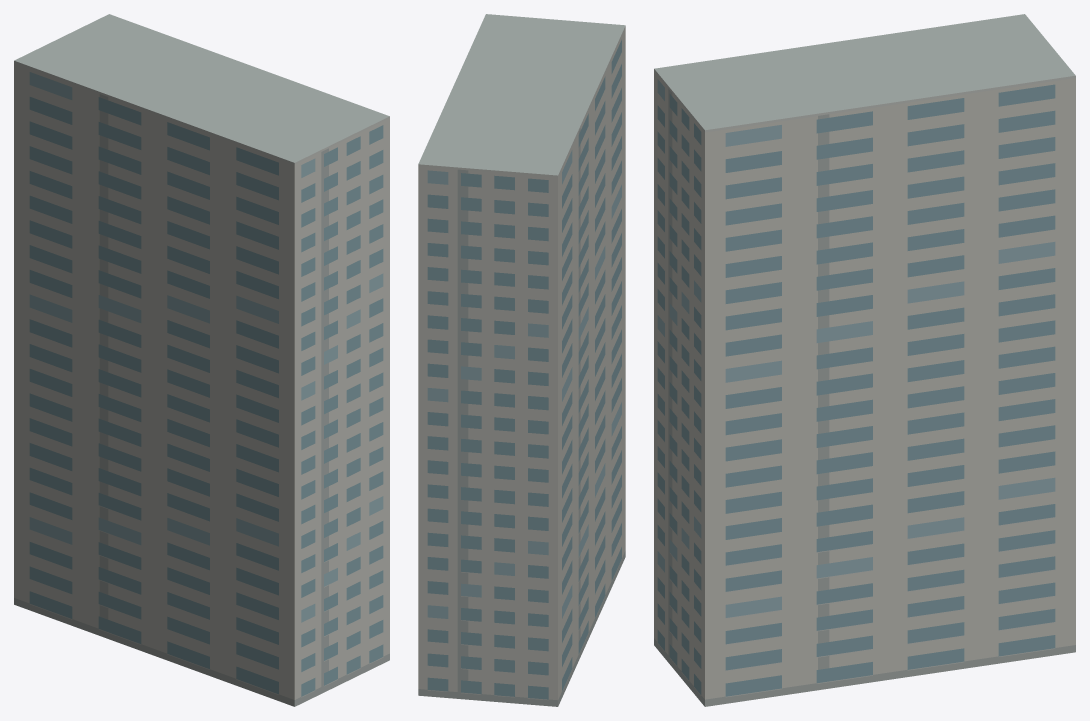
The model's file is residential-89748c37-435c-4e97-a1d1-fd2534d52f50.glb.
3 views of the same model, side by side, from view 1: azimuth 30°, elevation 25°; view 2: azimuth 150°, elevation 25°; view 3: azimuth 270°, elevation 25° (orthographic). The views are drawn at different scales.
Visible parts, largest first — view 1: residential-89748c37-435c-4e97-a1d1-fd2534d52f50.tmp; view 2: residential-89748c37-435c-4e97-a1d1-fd2534d52f50.tmp; view 3: residential-89748c37-435c-4e97-a1d1-fd2534d52f50.tmp.
Part boxes in pixels (x1,y1,x2,y2): residential-89748c37-435c-4e97-a1d1-fd2534d52f50.tmp: [14, 14, 389, 706]; residential-89748c37-435c-4e97-a1d1-fd2534d52f50.tmp: [418, 14, 625, 706]; residential-89748c37-435c-4e97-a1d1-fd2534d52f50.tmp: [654, 14, 1075, 706].
Bounding box in the file's own units: 27.26 × 63 × 41.77.
